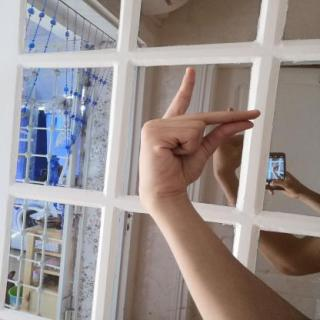TAA: (128, 61, 270, 205)
